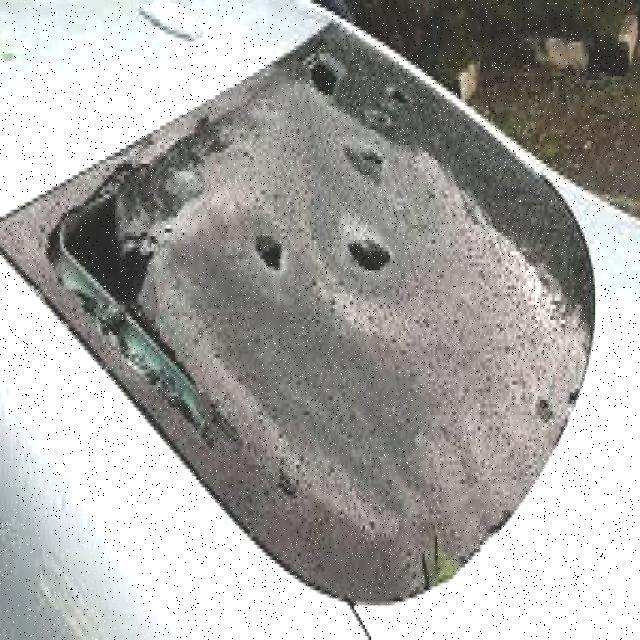car damage: (4, 21, 583, 597)
